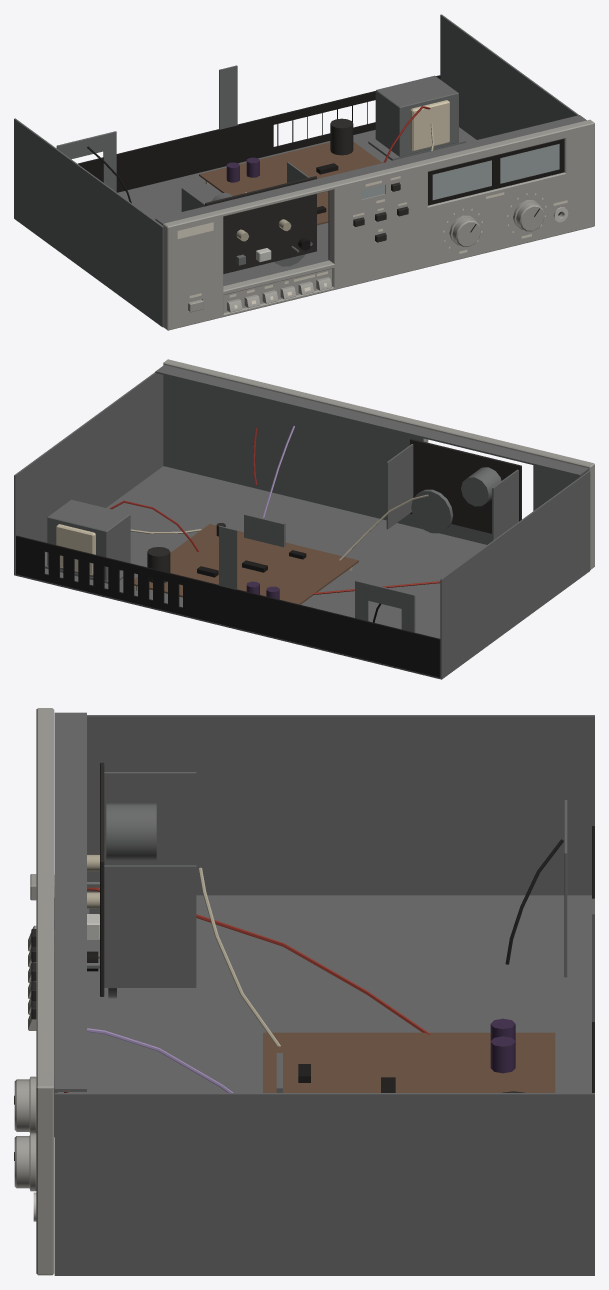
The model's file is cassette-deck-gutted-130c3bd65a62.glb.
3 renders of one model, top to bottom at view 1: azimuth 30°, elevation 25°; view 2: azimuth 150°, elevation 25°; view 3: azimuth 270°, elevation 25°, orthographic. The views are drawn at different scales.
Visible parts, largest first — view 1: metal, brushed, enamel-black, plastic-dark, wood, glass-clear, paper, decal-ink, accent-purple; view 2: metal, enamel-black, wood, plastic-dark, brushed, paper, plastic-light, enamel-red; view 3: metal, wood, brushed, plastic-dark, accent-purple, plastic-light, accent-warm, enamel-black, rubber.
Part boxes in pixels (left/top/right/bottom): metal: left=14, top=14, right=586, bottom=327; brushed: left=163, top=119, right=594, bottom=330; enamel-black: left=78, top=75, right=564, bottom=232; plastic-dark: left=205, top=118, right=561, bottom=273; wood: left=199, top=142, right=381, bottom=225; glass-clear: left=361, top=144, right=559, bottom=199; paper: left=410, top=100, right=449, bottom=151; decal-ink: left=177, top=176, right=567, bottom=308; accent-purple: left=226, top=157, right=259, bottom=182; metal: left=14, top=365, right=590, bottom=679; enamel-black: left=16, top=535, right=440, bottom=677; wood: left=134, top=524, right=358, bottom=604; plastic-dark: left=147, top=438, right=521, bottom=582; brushed: left=163, top=359, right=594, bottom=569; paper: left=56, top=524, right=95, bottom=575; plastic-light: left=130, top=494, right=428, bottom=591; enamel-red: left=109, top=427, right=257, bottom=551; metal: left=54, top=712, right=594, bottom=1275; wood: left=263, top=1032, right=555, bottom=1092; brushed: left=14, top=708, right=54, bottom=1275; plastic-dark: left=31, top=762, right=524, bottom=1092; accent-purple: left=490, top=1018, right=515, bottom=1073; plastic-light: left=87, top=854, right=280, bottom=1046; accent-warm: left=87, top=887, right=430, bottom=1034; enamel-black: left=14, top=826, right=594, bottom=1160; rubber: left=87, top=839, right=563, bottom=971.
Bounding box in the file's own units: 0.43 × 0.1 × 0.2782.
